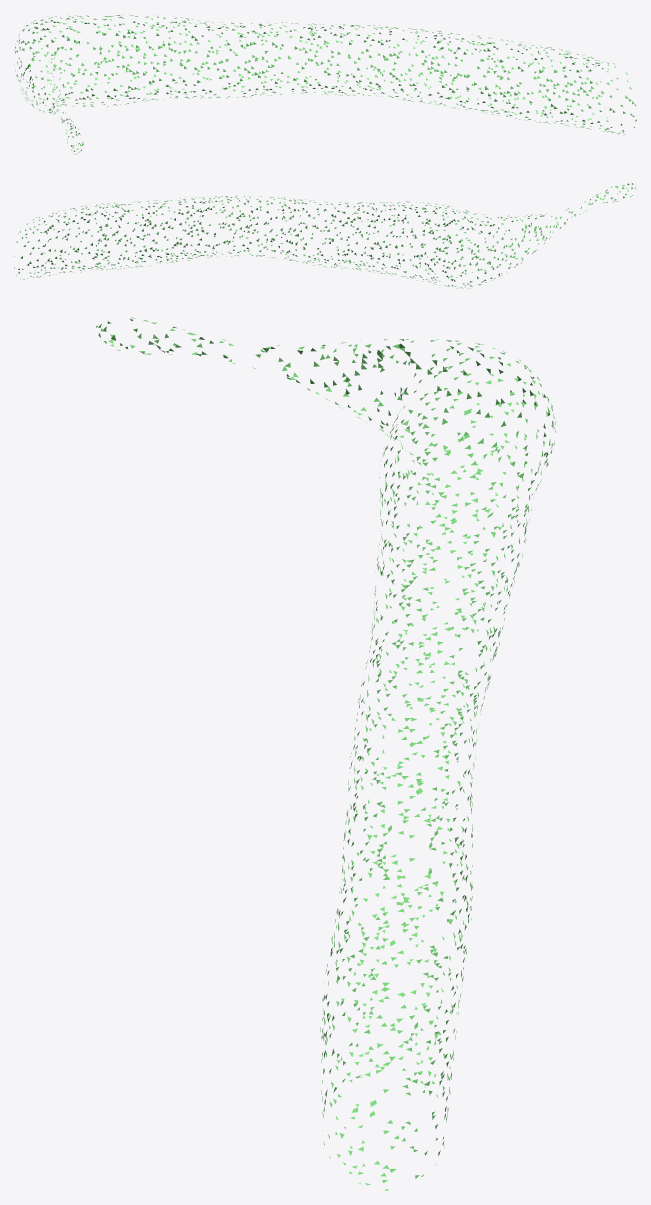
The model's file is morph_017.glb.
3 renders of one model, top to bottom at view 1: azimuth 30°, elevation 25°; view 2: azimuth 150°, elevation 25°; view 3: azimuth 270°, elevation 25°, orthographic. The views are drawn at different scales.
Size of the model in its own units: 138 by 46.77 by 50.83.
